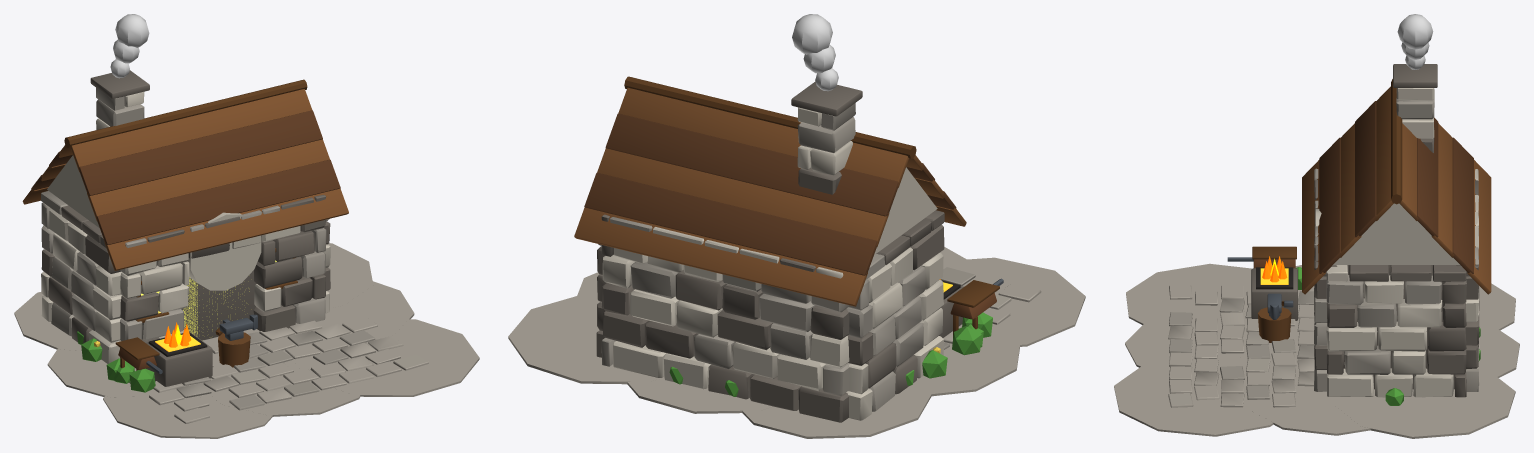
File: kuznia_poz11.glb
The picture shows the model from 3 angles, left to right: view 1: azimuth 30°, elevation 25°; view 2: azimuth 150°, elevation 25°; view 3: azimuth 270°, elevation 25°; orthographic projection. The views are drawn at different scales.
Parts seen in each view (by area): view 1: kuznia_poz11; view 2: kuznia_poz11; view 3: kuznia_poz11.
Boxes of the visible parts, x1,y1,x2,y2 form: kuznia_poz11: [14, 14, 479, 438]; kuznia_poz11: [508, 14, 1085, 438]; kuznia_poz11: [1114, 14, 1519, 438].
Bounding box in the file's own units: 8.78 × 7.35 × 8.65.
